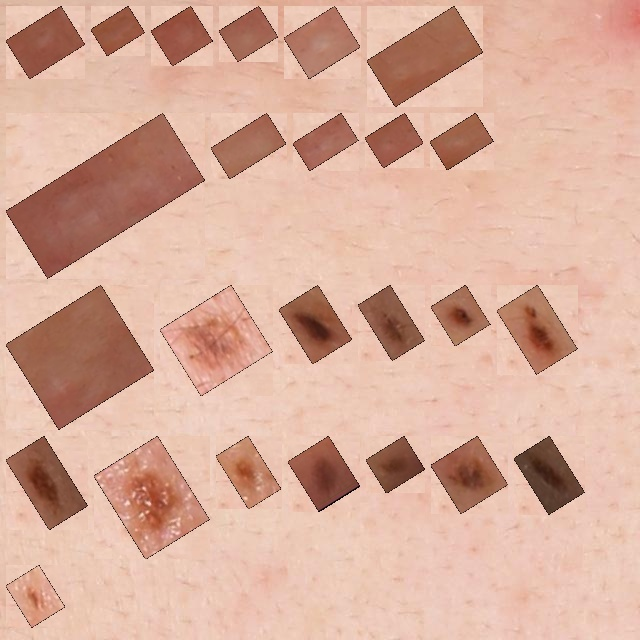hypertrophic_scar: (17, 124, 194, 267), (17, 296, 143, 418), (378, 17, 472, 95), (17, 17, 74, 68), (295, 17, 349, 67), (222, 124, 275, 167), (162, 17, 202, 55), (304, 124, 347, 159), (441, 124, 482, 159), (230, 17, 267, 50), (376, 124, 412, 157), (102, 17, 134, 45)
nevus: (105, 447, 199, 548), (171, 296, 262, 385), (17, 447, 77, 518), (508, 296, 566, 363), (442, 447, 497, 502), (290, 296, 341, 353), (525, 447, 574, 503), (299, 447, 349, 500), (369, 296, 414, 349), (227, 447, 270, 498), (17, 576, 54, 616), (442, 296, 479, 335), (377, 447, 414, 482)
